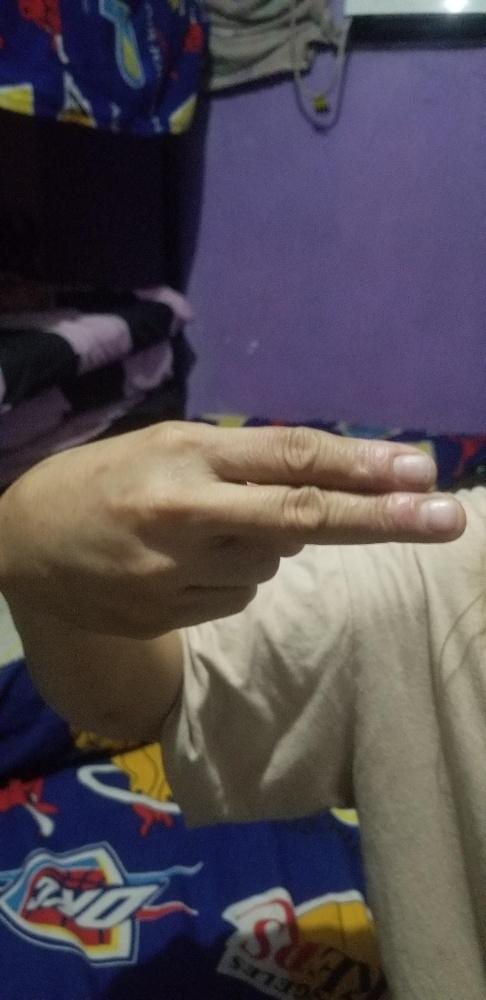h: (36, 419, 467, 639)
